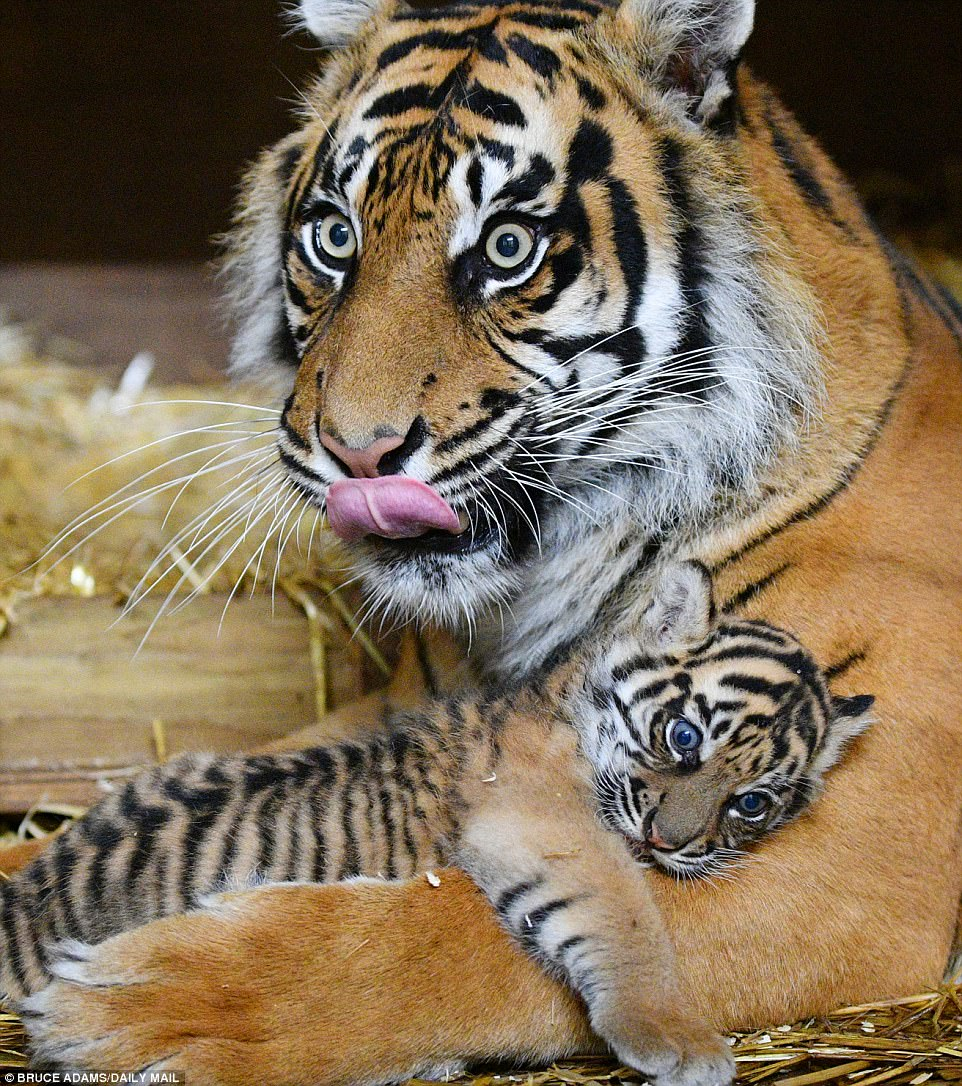Tiger: (1, 555, 845, 1082), (221, 11, 891, 609)
